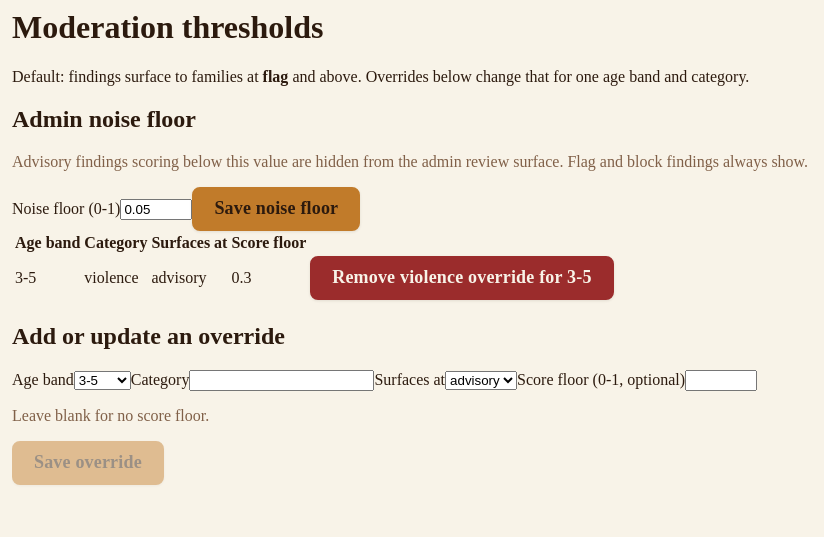
Test case: ModerationThresholdsPage › surfaces a save failure without losing the existing rows
Check: the text "surface to families at" is shown, box [12,68,263,85]
Type "toxicity" into the field labelled "Category" at (282, 380), box [189,370,374,390]
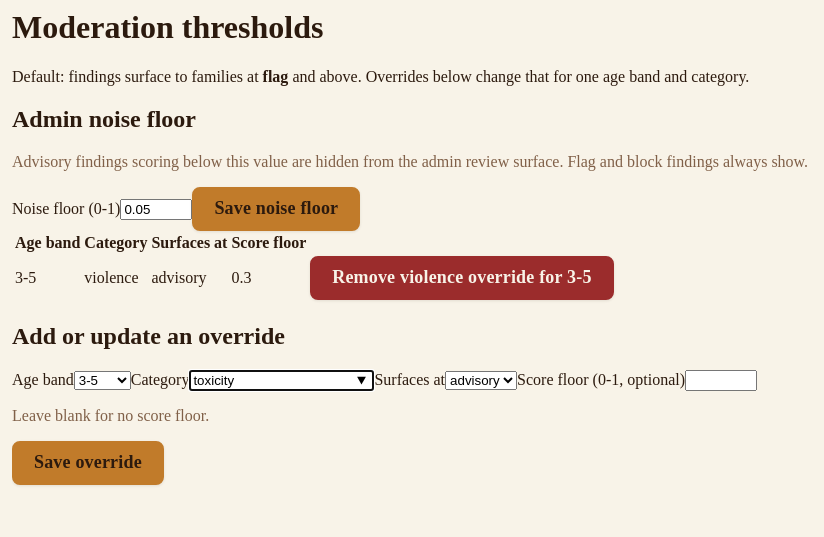
Click the button "Save override" at (88, 462), box [12,440,164,484]
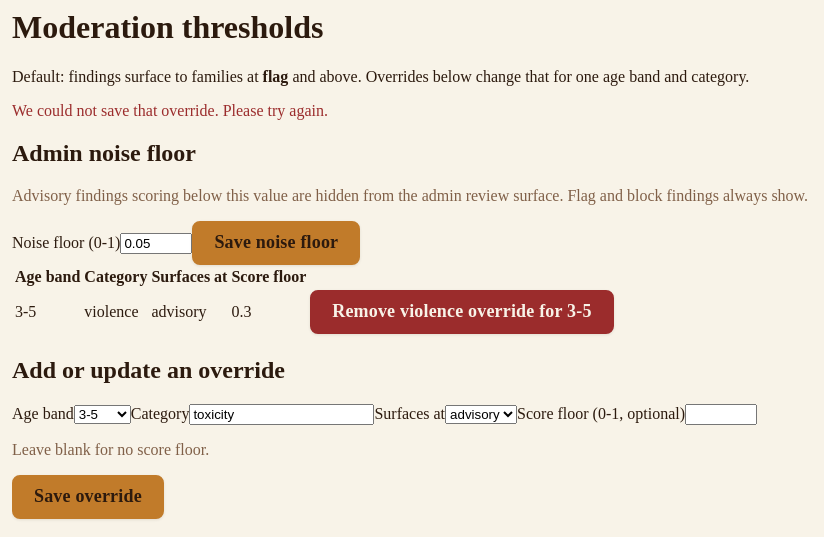
Check: the text "violence" is shown, box [83,289,148,335]
Check: the message shows "could not save", box [12,102,328,119]
